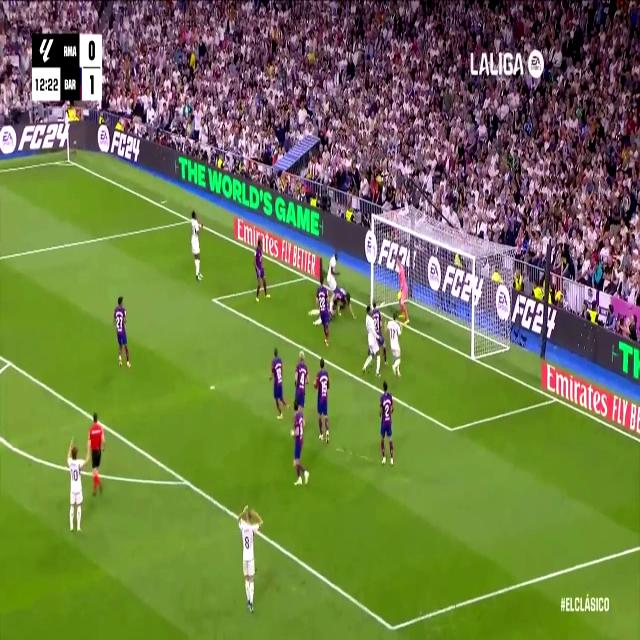bigarea_bottom_inner: (383, 607, 401, 640)
bigarea_bottom_outter: (4, 350, 16, 374)
bottom_arc_area_intersection: (178, 464, 192, 496)
corner: (62, 153, 74, 167)
smallarea_top_inner: (209, 288, 219, 310)
smallarea_top_outter: (302, 271, 309, 283)
